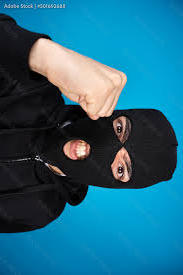terrorist: (120, 3, 159, 105), (63, 5, 104, 100), (14, 3, 57, 84)
